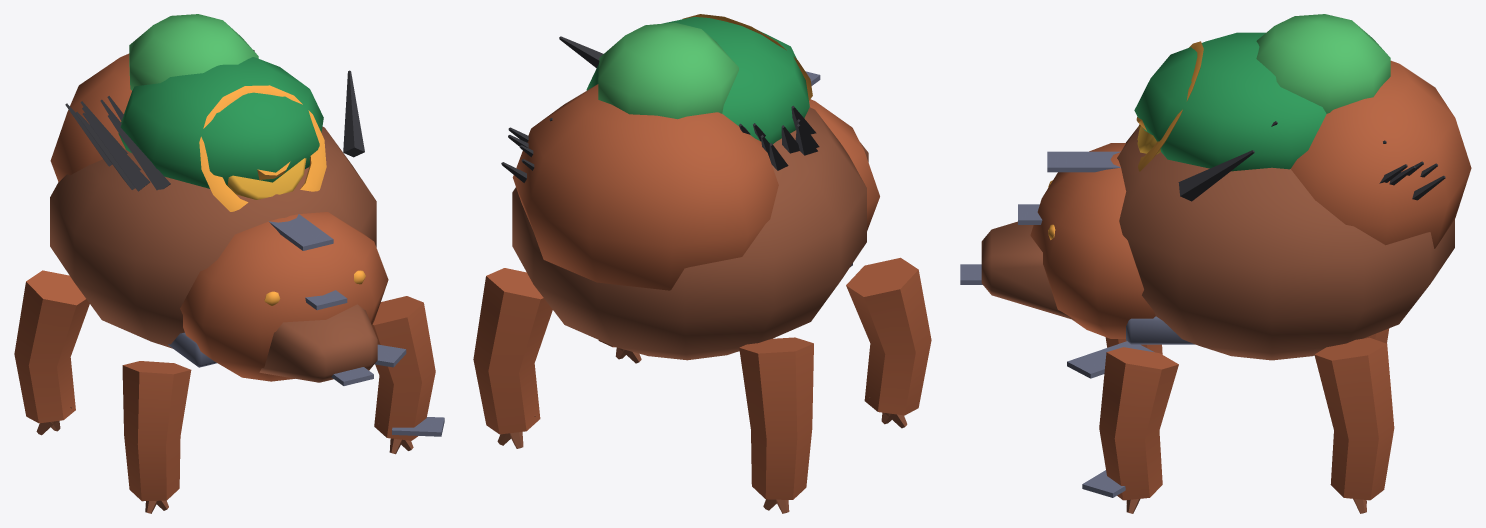
Rendered from bramble_hog.glb.
3 views of the same model, side by side, from view 1: azimuth 30°, elevation 25°; view 2: azimuth 150°, elevation 25°; view 3: azimuth 270°, elevation 25° (orthographic). The views are drawn at different scales.
Visible parts, largest first — view 1: BrambleHog; view 2: BrambleHog; view 3: BrambleHog.
Part boxes in pixels (left/top/right/bottom): BrambleHog: left=14, top=14, right=444, bottom=513; BrambleHog: left=473, top=14, right=931, bottom=513; BrambleHog: left=960, top=14, right=1471, bottom=513.
Size of the model in its own units: 2.59 by 3.2 by 3.5.
1 material, 1 textured.
